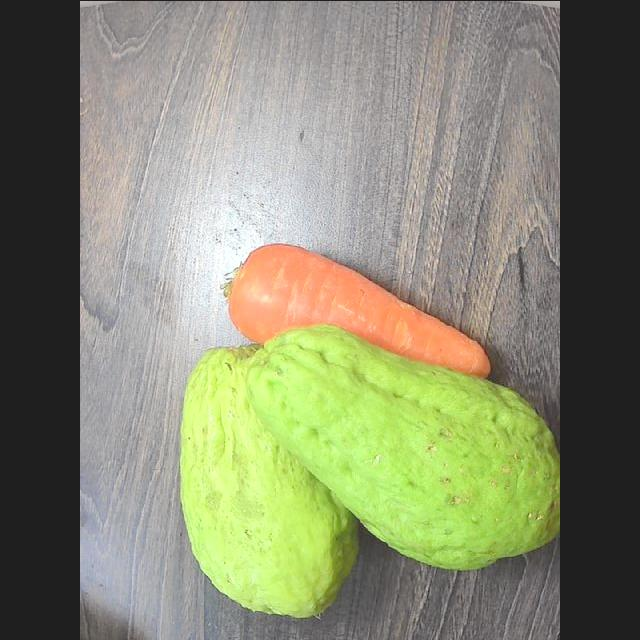chayote: (246, 325, 559, 568), (180, 345, 358, 616)
zanahoria: (221, 243, 489, 375)
